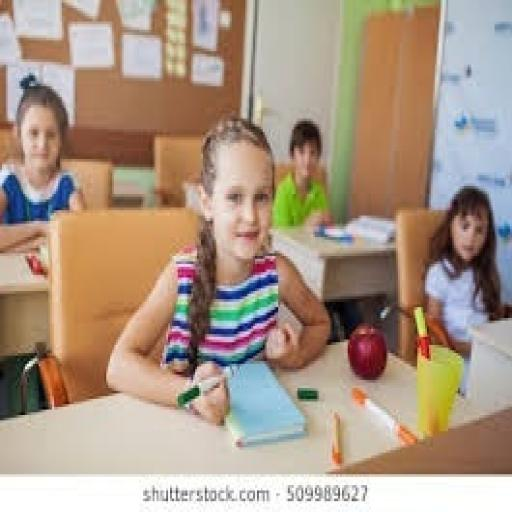sitting: (2, 70, 508, 426), (104, 113, 332, 426), (0, 73, 87, 253), (421, 183, 506, 356), (270, 116, 332, 232)
